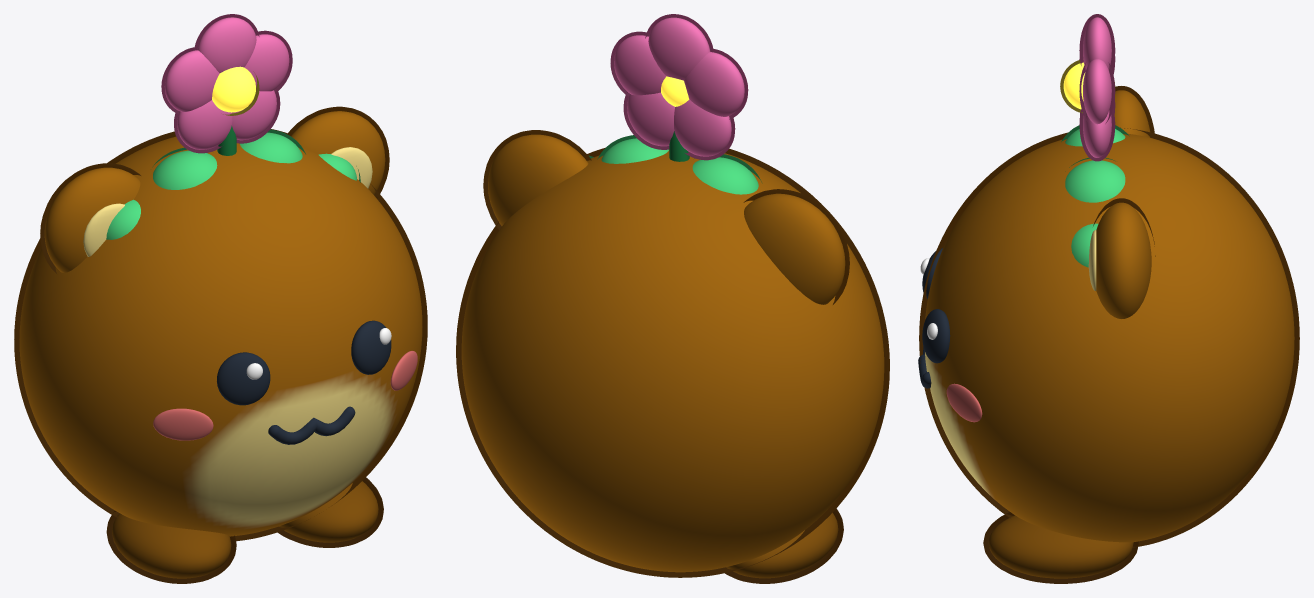
Rendered from bloom.glb.
The picture shows the model from 3 angles, left to right: view 1: azimuth 30°, elevation 25°; view 2: azimuth 150°, elevation 25°; view 3: azimuth 270°, elevation 25°; orthographic projection. The views are drawn at different scales.
Parts seen in each view (by area): view 1: body, foot, ear, foot.001, ear.001, petal.004, petal, petal.003, petal.001, eye, moss.001, flower_core (+9 smaller); view 2: body, ear, ear.001, foot, petal.004, petal, petal.003, petal.001, petal.002, moss.001, moss.002, flower_core; view 3: body, foot.001, ear.001, moss.002, petal.001, petal, ear, petal.002, eye.001, cheek.001, flower_core, moss.003.
Boxes of the visible parts, bbox=[...] form: body: bbox=[14, 129, 427, 541]; foot: bbox=[106, 510, 236, 583]; ear: bbox=[40, 163, 140, 273]; foot.001: bbox=[277, 477, 383, 547]; ear.001: bbox=[287, 106, 389, 198]; petal.004: bbox=[161, 46, 219, 114]; petal: bbox=[194, 14, 259, 73]; petal.003: bbox=[174, 100, 232, 153]; petal.001: bbox=[244, 30, 292, 93]; eye: bbox=[217, 352, 270, 405]; moss.001: bbox=[152, 147, 217, 189]; flower_core: bbox=[212, 66, 259, 115]; body: bbox=[456, 147, 889, 577]; ear: bbox=[743, 189, 849, 304]; ear.001: bbox=[483, 130, 591, 229]; foot: bbox=[725, 508, 843, 583]; petal.004: bbox=[684, 48, 748, 119]; petal: bbox=[645, 14, 713, 80]; petal.003: bbox=[674, 99, 735, 160]; petal.001: bbox=[610, 31, 666, 96]; petal.002: bbox=[623, 92, 674, 149]; moss.001: bbox=[692, 154, 762, 194]; moss.002: bbox=[597, 135, 668, 163]; flower_core: bbox=[661, 76, 689, 106]; body: bbox=[919, 127, 1299, 547]; foot.001: bbox=[983, 512, 1138, 583]; ear.001: bbox=[1093, 198, 1155, 318]; moss.002: bbox=[1065, 157, 1125, 202]; petal.001: bbox=[1079, 59, 1115, 124]; petal: bbox=[1079, 14, 1115, 70]; ear: bbox=[1114, 86, 1154, 137]; petal.002: bbox=[1079, 108, 1115, 161]; eye.001: bbox=[922, 309, 950, 363]; cheek.001: bbox=[946, 383, 982, 422]; flower_core: bbox=[1060, 60, 1115, 113]; moss.003: bbox=[1071, 223, 1098, 267].
Bounding box in the file's own units: 1.74 × 2.38 × 1.58.
